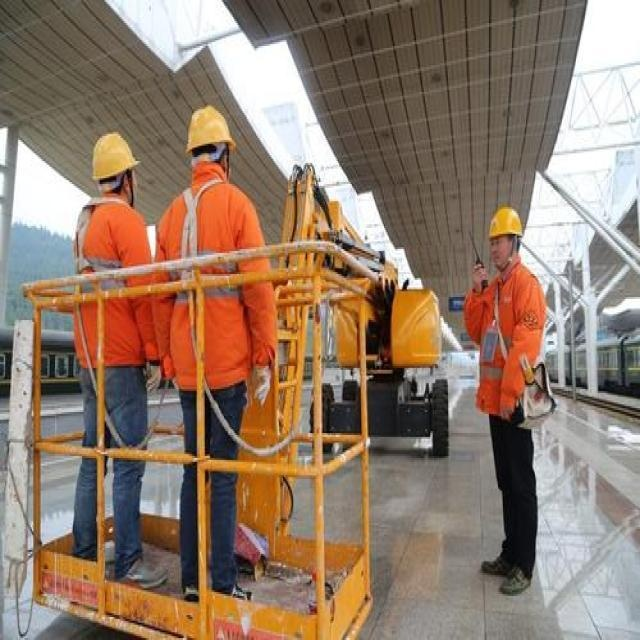Arnes_seguridad: (173, 171, 237, 305)
